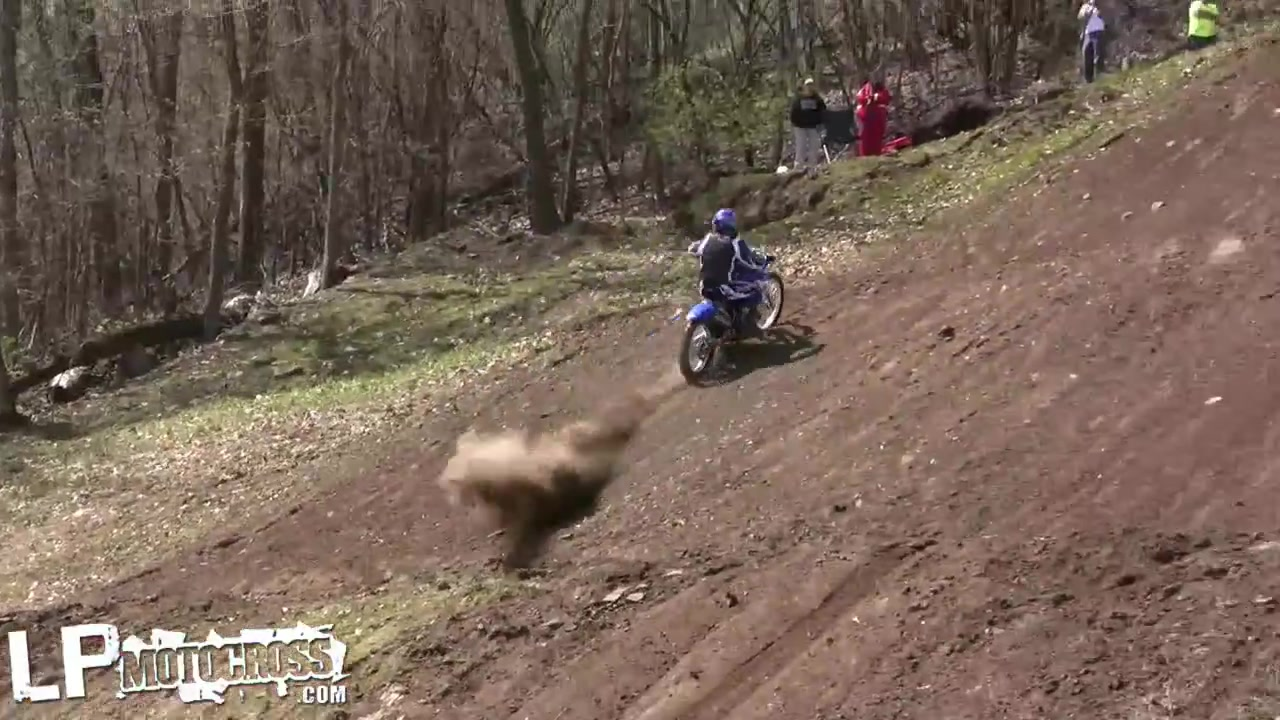motorbike: (680, 246, 787, 387)
